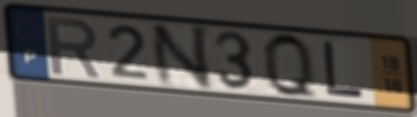2: (105, 23, 152, 82)
3: (213, 29, 259, 93)
L: (319, 39, 367, 100)
N: (147, 23, 215, 92)
Q: (259, 29, 321, 103)
R: (44, 13, 103, 80)
